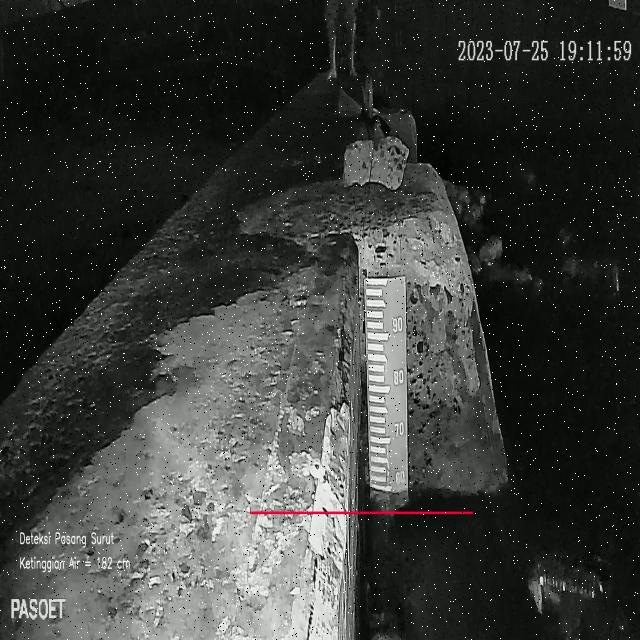60: (394, 468, 405, 486)
70: (394, 420, 406, 439)
80: (392, 366, 405, 387)
90: (391, 316, 404, 334)
staff: (364, 276, 408, 494)
